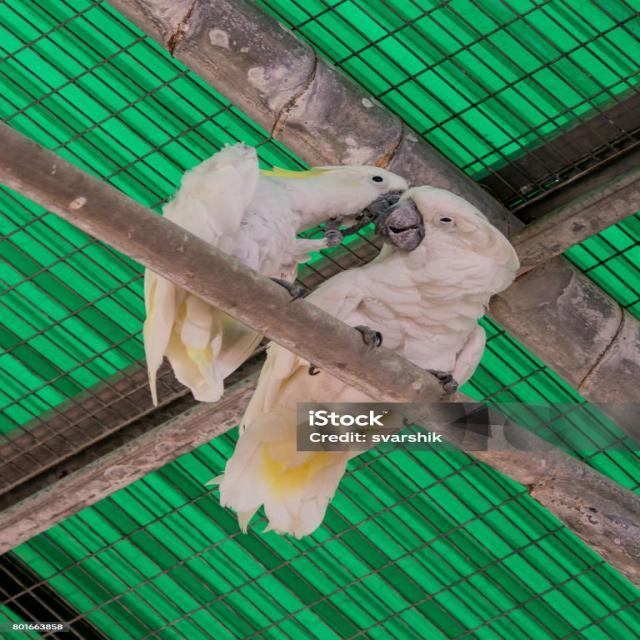Kakatua Putih: (215, 171, 538, 554), (139, 120, 410, 410)
